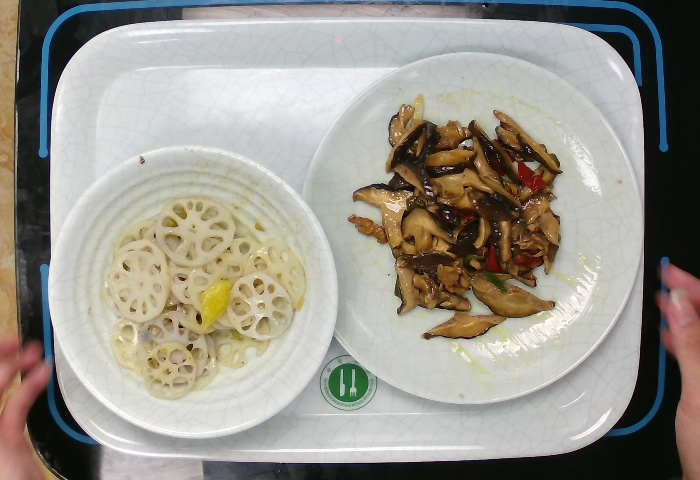JYsf-Da_Yuan_Pan: (296, 46, 647, 410)
JYsf-Xiao_Tang_Wan: (42, 139, 344, 442)
